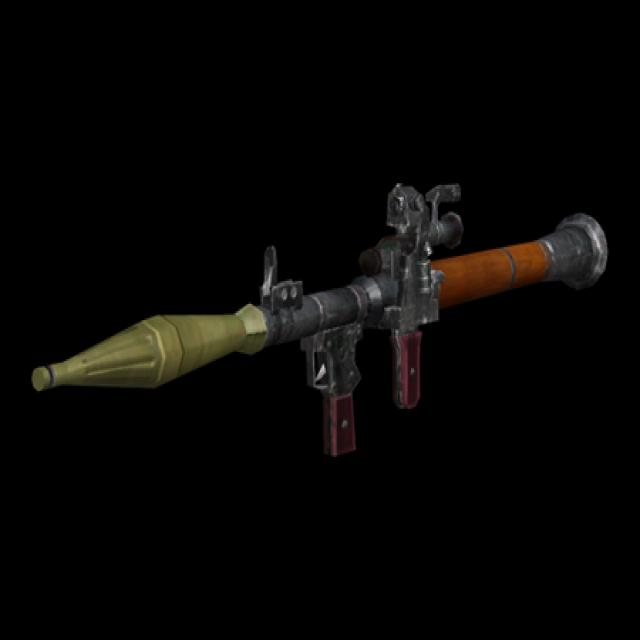bazooka: (24, 127, 627, 496)
